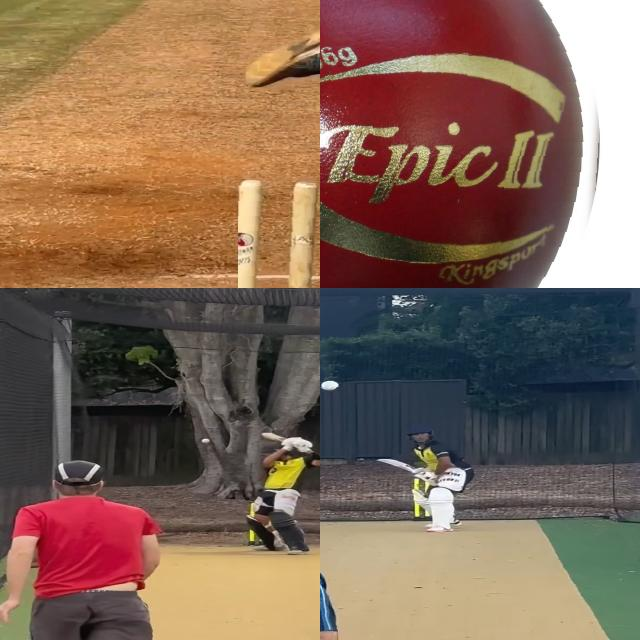Cricket ball: (320, 0, 614, 288), (320, 378, 343, 392), (201, 438, 211, 444)
Stumps: (238, 178, 320, 288)
